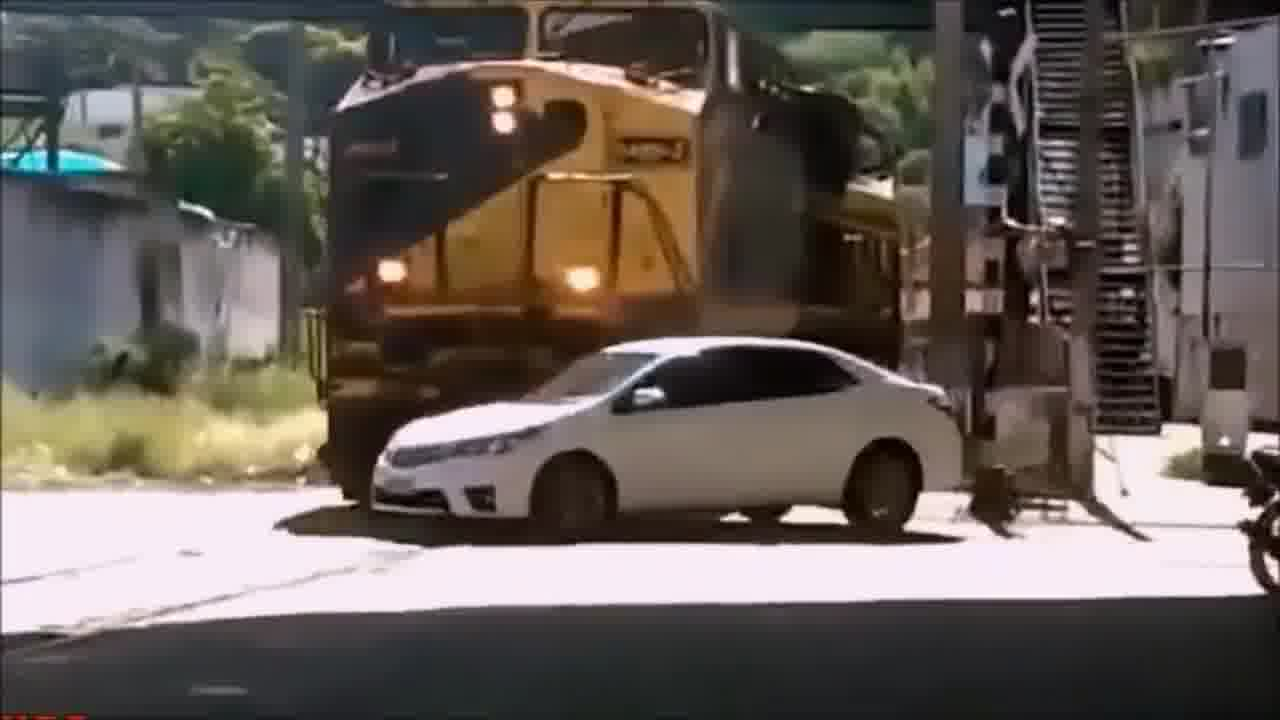crossing railway track: (359, 335, 989, 568)
